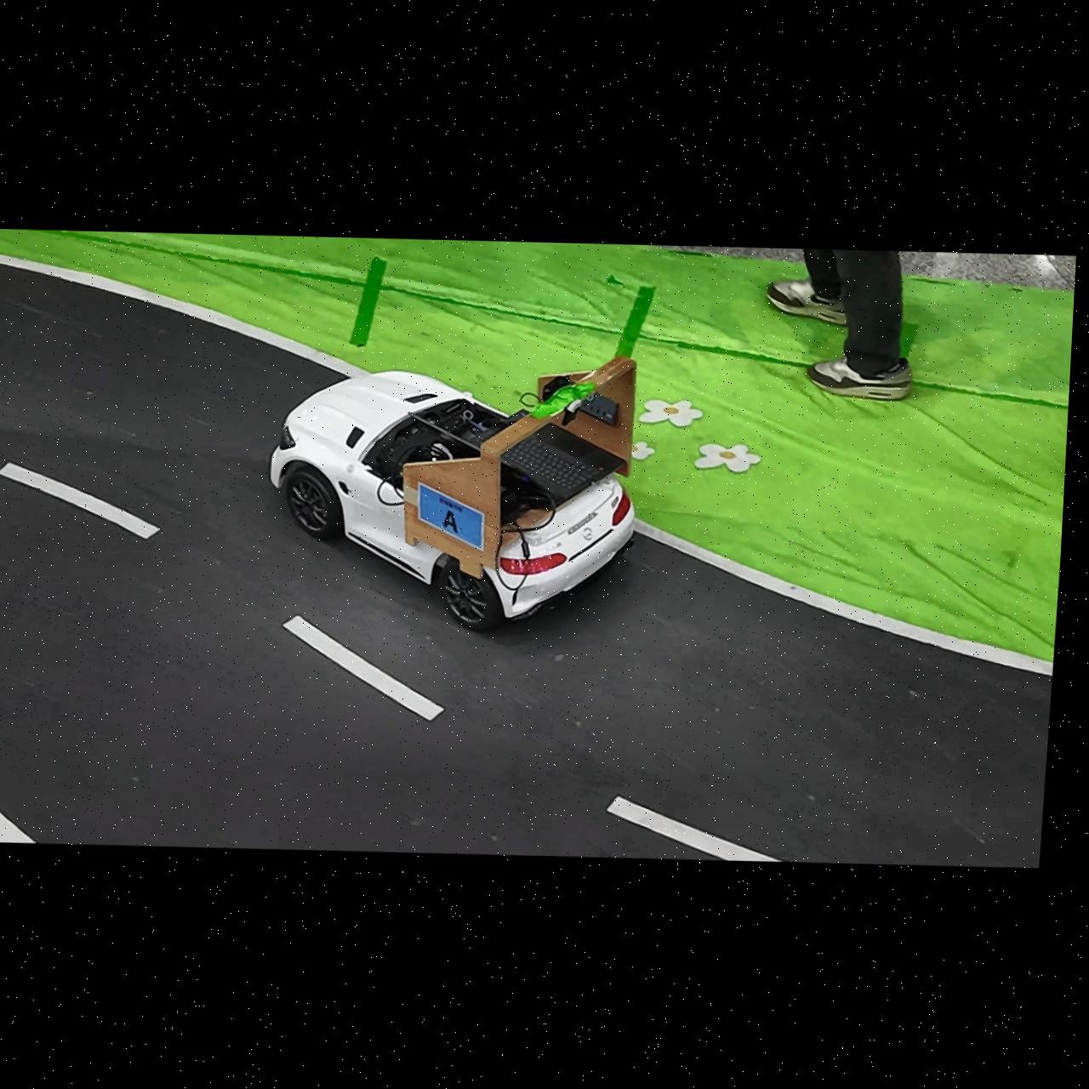broken_line: (283, 616, 443, 720), (0, 463, 159, 539), (607, 797, 781, 861)
